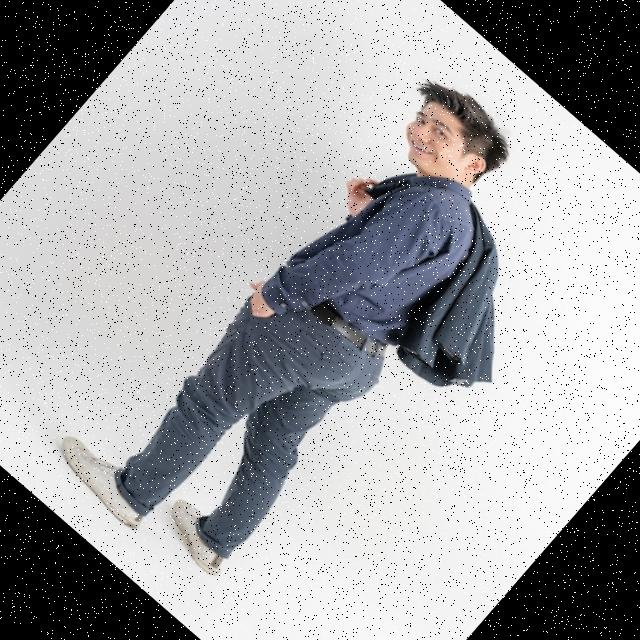Person: (47, 42, 624, 640)
